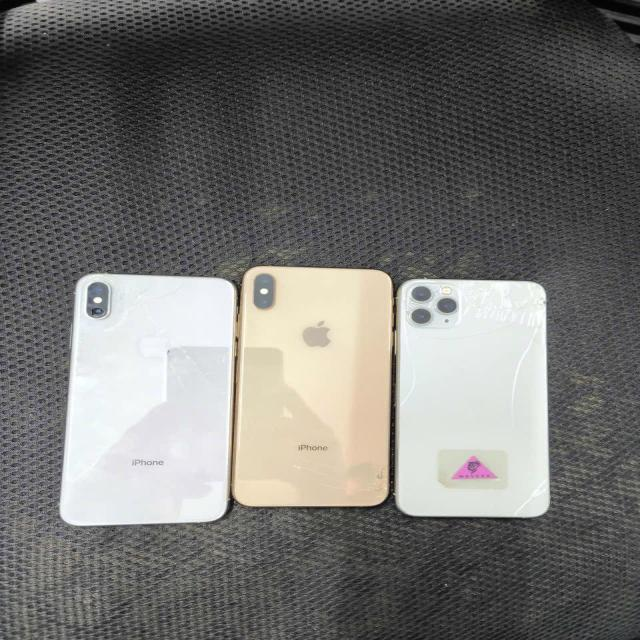gen_11: (397, 278, 553, 520)
gen_x_xs: (62, 275, 237, 530), (233, 265, 393, 508)
physical_damage: (149, 324, 228, 396), (292, 454, 388, 502), (74, 275, 167, 323), (464, 283, 546, 331), (407, 282, 462, 326), (514, 333, 547, 384), (511, 431, 550, 470), (504, 388, 538, 431), (400, 330, 430, 372), (518, 470, 554, 503), (170, 278, 208, 308), (401, 376, 431, 406), (506, 504, 533, 518)
